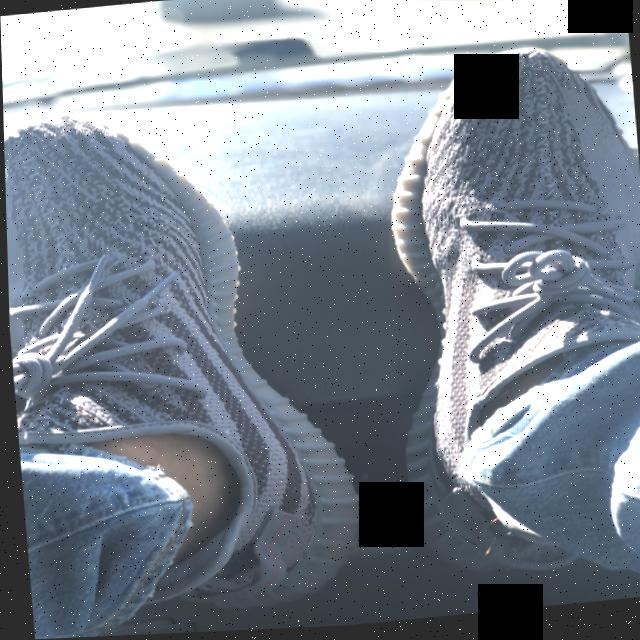shoe: (2, 86, 391, 638), (373, 43, 640, 594)
